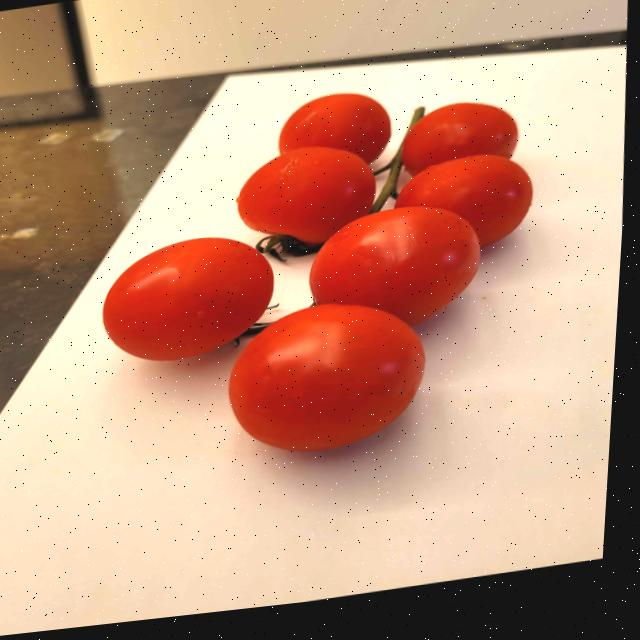ripe2: (228, 304, 425, 451), (102, 237, 273, 360), (309, 206, 479, 325), (236, 147, 375, 244), (394, 155, 532, 246), (402, 103, 518, 176), (278, 93, 391, 164)
